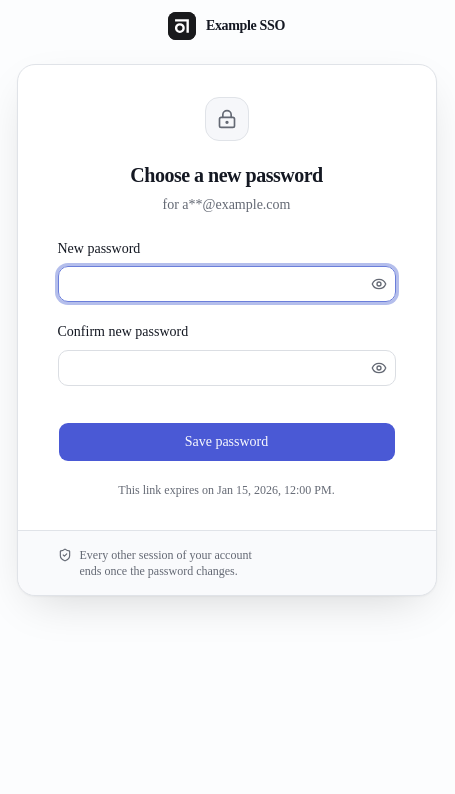
Test: ResetPasswordForm › checks the link, then sets the new password
expect the text "This link expires on Jan 15, 2026, 12:00 PM." is shown: met, box 118,482 -> 335,496
Type "a sufficiently long password" into the password field labelled "New password" at (213, 284), box 58,268 -> 367,300
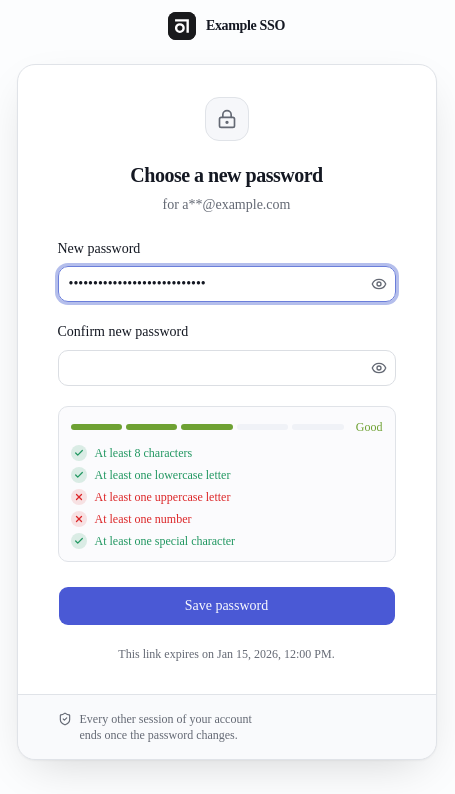
Type "a sufficiently long password" into the password field labelled "Confirm new password" at (213, 368), box 58,352 -> 367,384
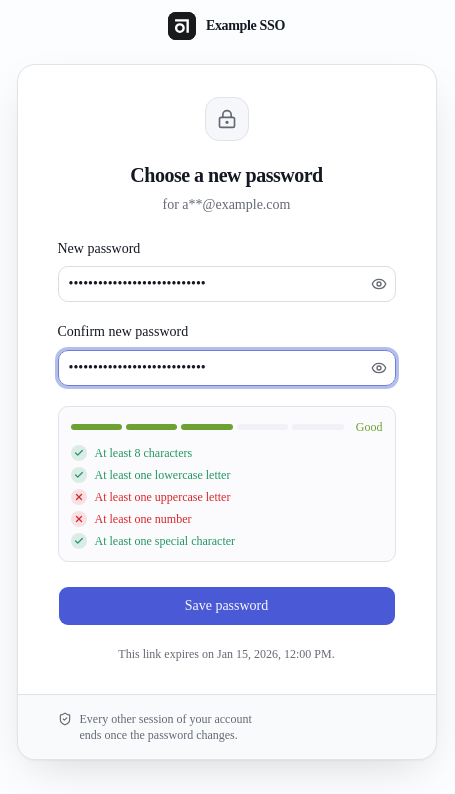
Click the button "Save password" at (226, 606), box 58,586 -> 396,626
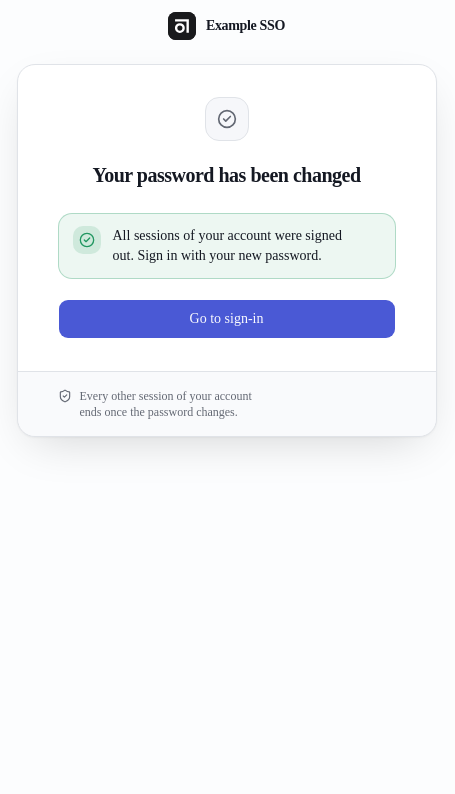
expect the heading "Your password has been changed" is shown: met, box 92,161 -> 360,189
